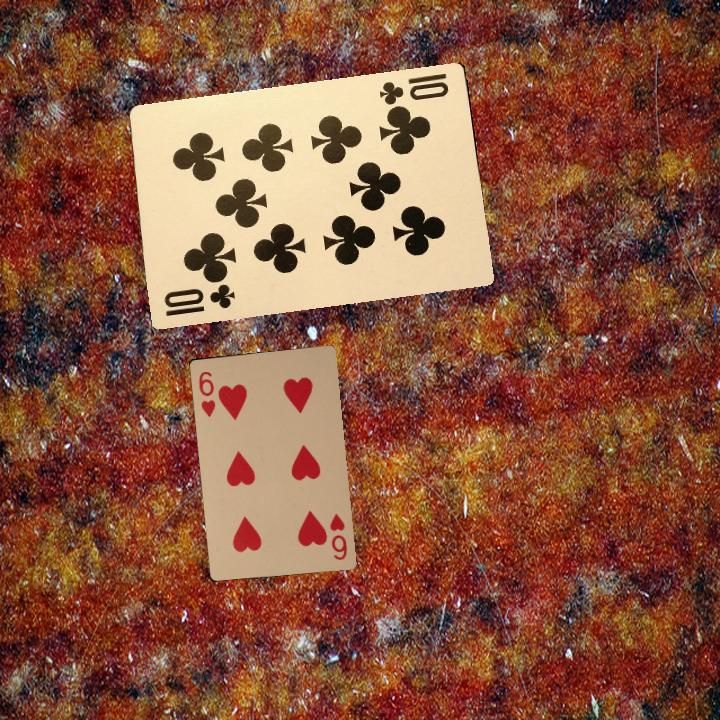10c: (160, 277, 237, 319), (375, 69, 451, 107)
6h: (326, 509, 350, 562), (195, 367, 218, 419)
